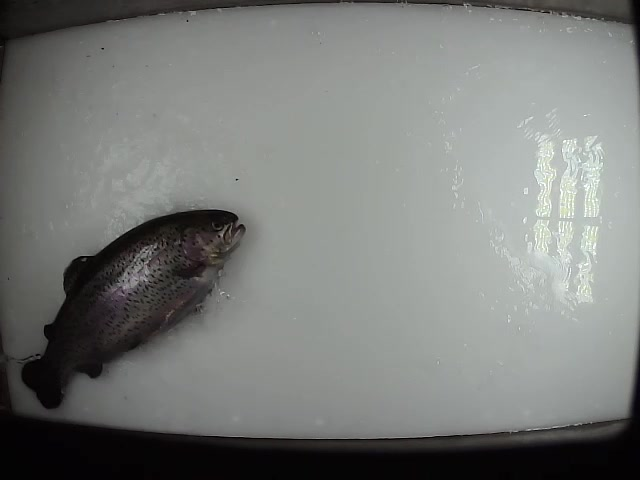Fish: (21, 208, 246, 411)
